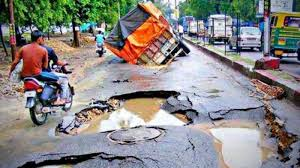potholes: (84, 69, 300, 167), (87, 79, 204, 153)
